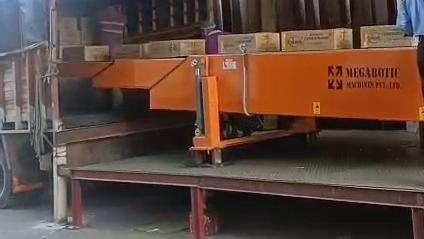box: (280, 28, 352, 51), (217, 32, 280, 53), (360, 25, 417, 48)
